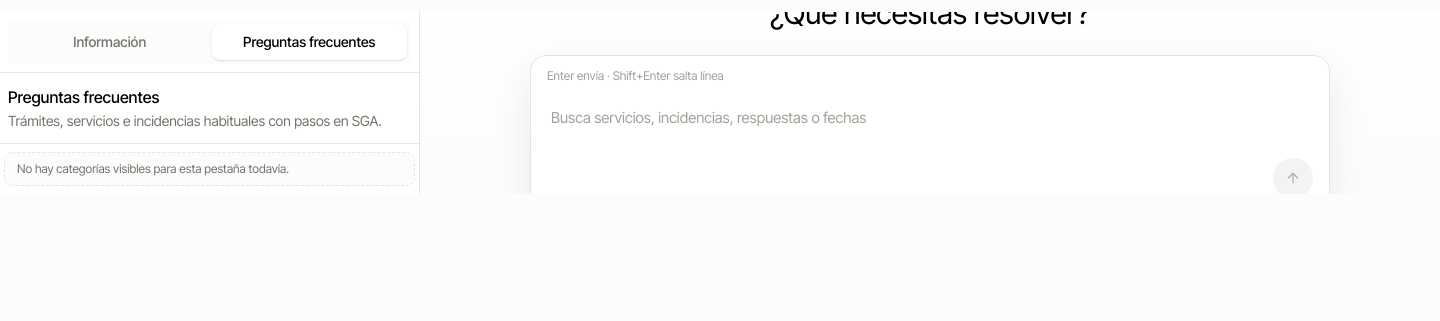
Test: RagWorkbench › shows live suggestions while typing
Type "retiro voluntario" into the text box at (930, 118), box left=547, top=96, right=1313, bottom=140
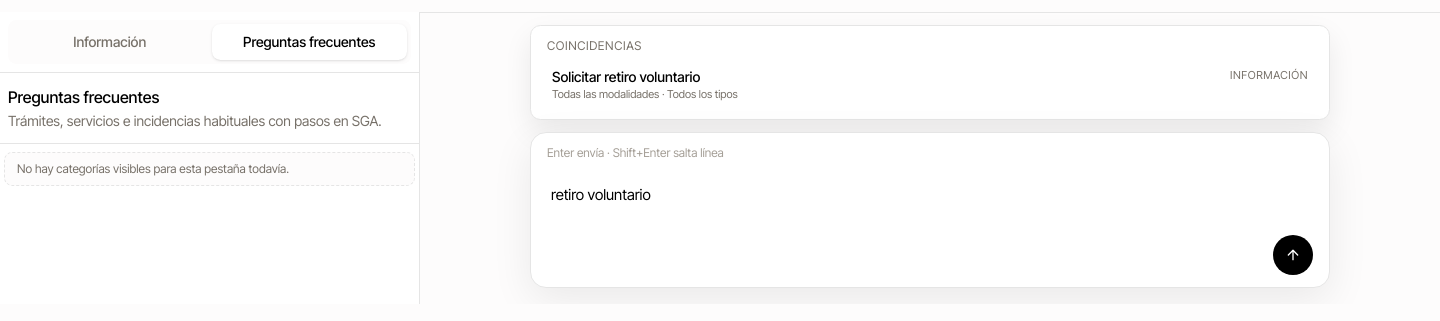
expect the button "Solicitar retiro voluntario" is shown: met, box left=539, top=58, right=1321, bottom=111
